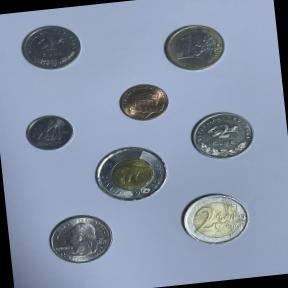1 Euro: (157, 15, 233, 77)
2 Euro: (178, 189, 254, 250)
Canda-10cent-: (20, 111, 80, 155)
Canda-2Dollar-: (88, 142, 174, 208)
Croatia-2Kune-: (184, 105, 262, 165)
US-1cent-: (113, 78, 175, 125)
US-25cent-: (42, 210, 120, 269)
